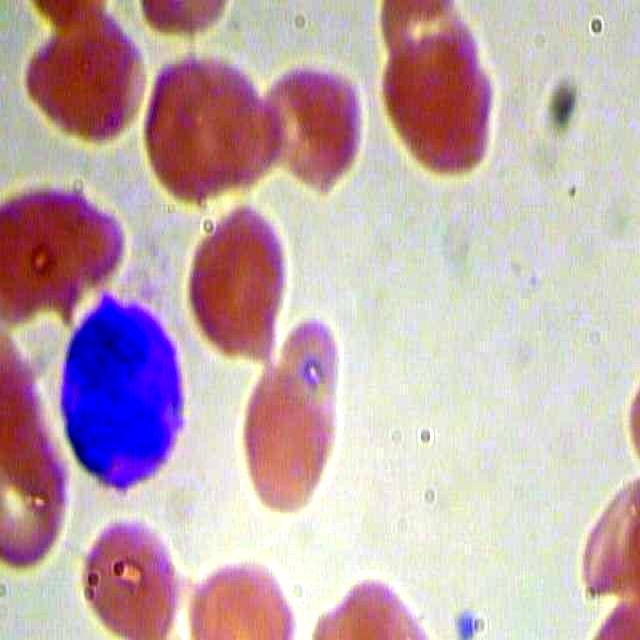Platelets: (445, 606, 489, 638)
RBC: (137, 45, 280, 211), (177, 205, 302, 363), (221, 361, 346, 519), (20, 11, 154, 150), (255, 53, 373, 203), (379, 29, 496, 178), (78, 509, 188, 640)
WBC: (46, 283, 193, 493)
